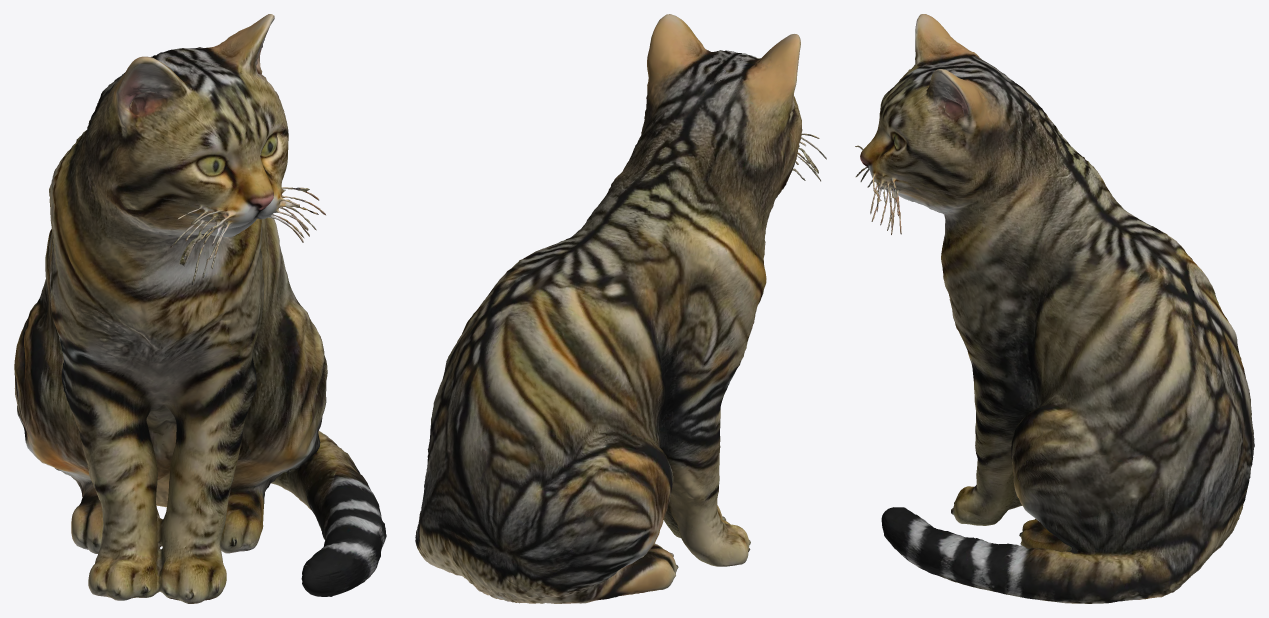
Rendered from bengal-cat.glb.
The picture shows the model from 3 angles, left to right: view 1: azimuth 30°, elevation 25°; view 2: azimuth 150°, elevation 25°; view 3: azimuth 270°, elevation 25°; orthographic projection. The views are drawn at different scales.
Size of the model in its own units: 1.13 by 1.92 by 1.47.
1 material, 1 textured.
